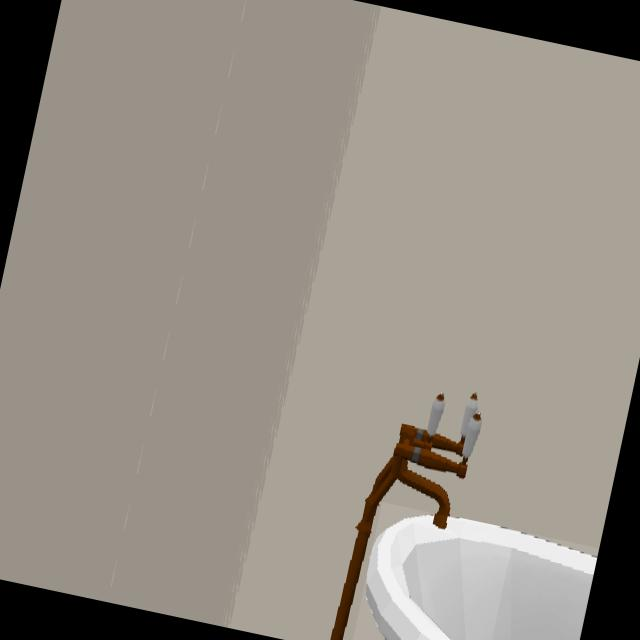bathtube: (367, 516, 595, 640)
